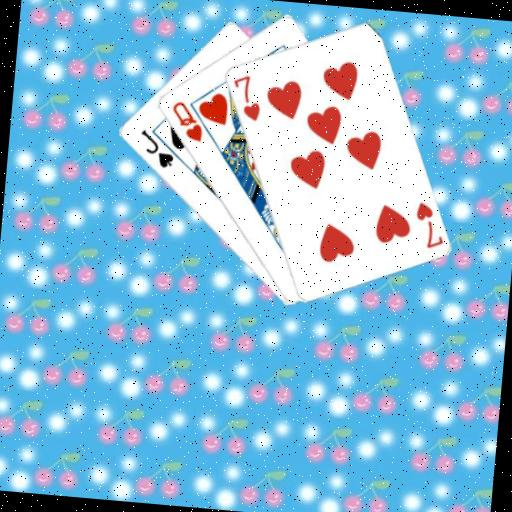7H: (227, 70, 265, 123), (410, 199, 448, 252)
JS: (135, 126, 178, 170)
QH: (166, 98, 207, 145)
